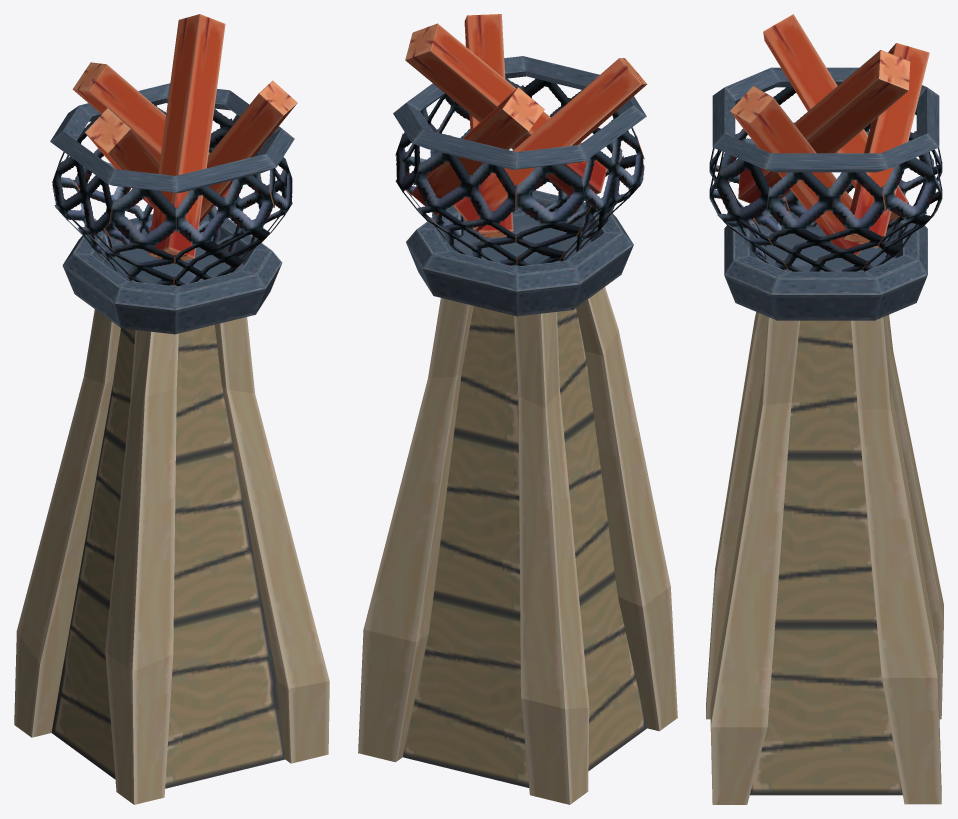
Rendered from Fire_Brazier.fbx.
3 views of the same model, side by side, from view 1: azimuth 30°, elevation 25°; view 2: azimuth 150°, elevation 25°; view 3: azimuth 270°, elevation 25° (orthographic). The views are drawn at different scales.
Parts seen in each view (by area): view 1: n0b0; view 2: n0b0; view 3: n0b0.
Part boxes in pixels (x1,y1,x2,y2): n0b0: (14,14,329,804); n0b0: (358,14,677,804); n0b0: (706,14,943,804).
Bounding box in the file's own units: 137 × 442 × 131.
Materials: 1 (1 with a texture image).
